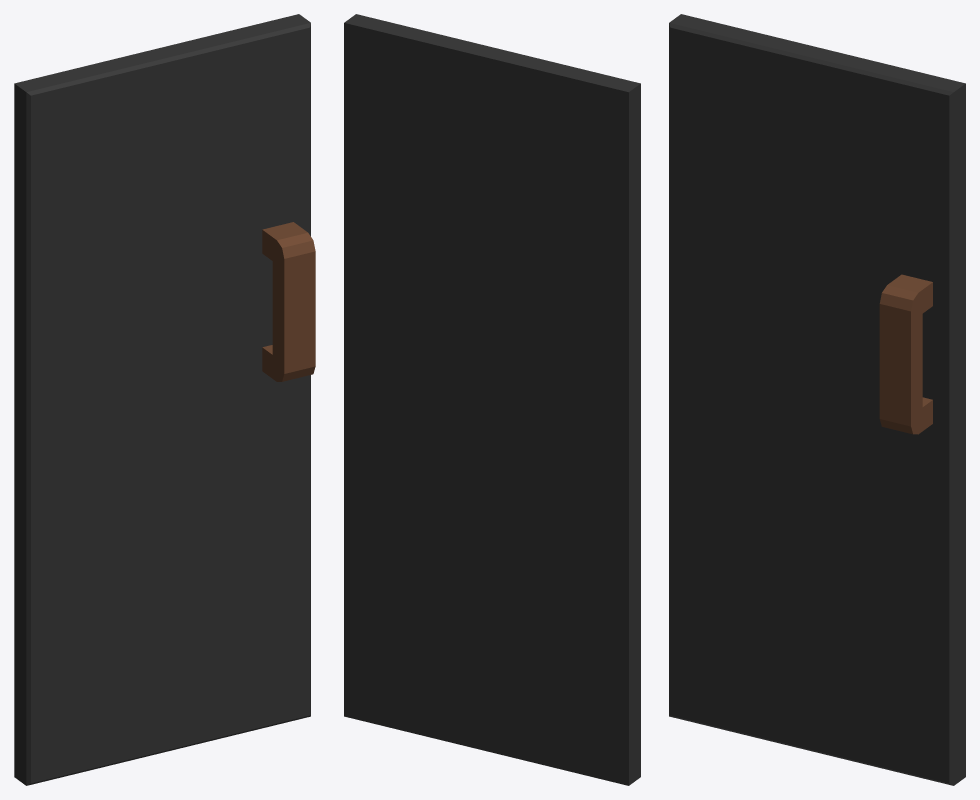
File: Expositor_Door_4.obj
3 renders of one model, left to right at view 1: azimuth 30°, elevation 25°; view 2: azimuth 150°, elevation 25°; view 3: azimuth 330°, elevation 25°, orthographic.
Parts seen in each view (by area): view 1: Expositor_Door_4; view 2: Expositor_Door_4; view 3: Expositor_Door_4.
Part boxes in pixels (bbox=[...]): Expositor_Door_4: bbox=[14, 14, 315, 785]; Expositor_Door_4: bbox=[344, 14, 640, 785]; Expositor_Door_4: bbox=[669, 14, 965, 785].
Bounding box in the file's own units: 0.3303 × 0.7689 × 0.0716.
